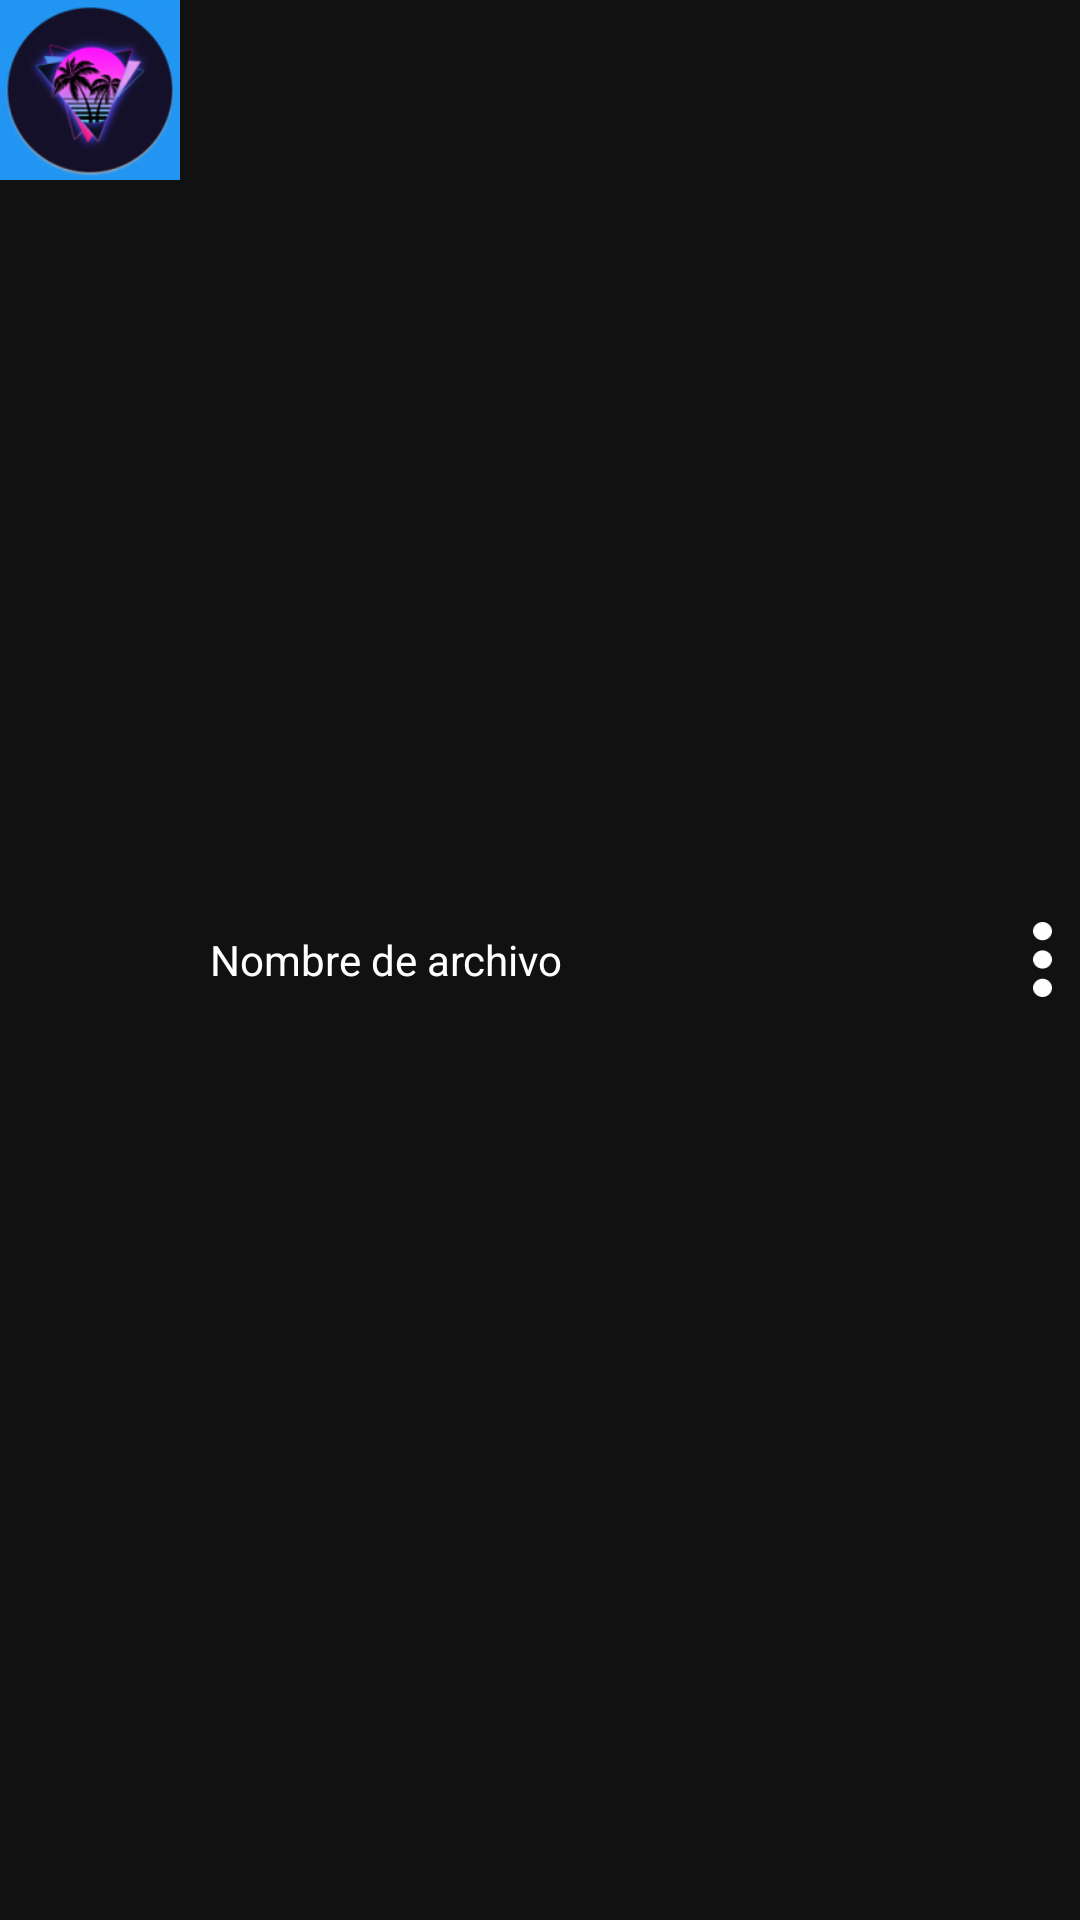

Icon bounding boxes for this 1080*1920 phone screenshot, format (x1, y1, x2, y2):
more: (1033, 922, 1052, 997)
